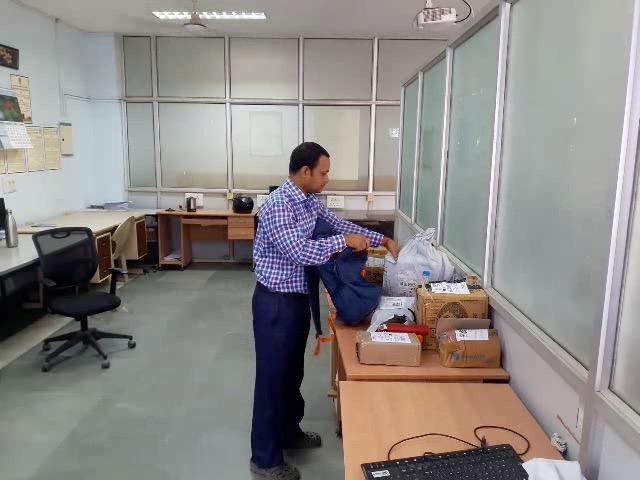shoplifting: (231, 218, 457, 331)
